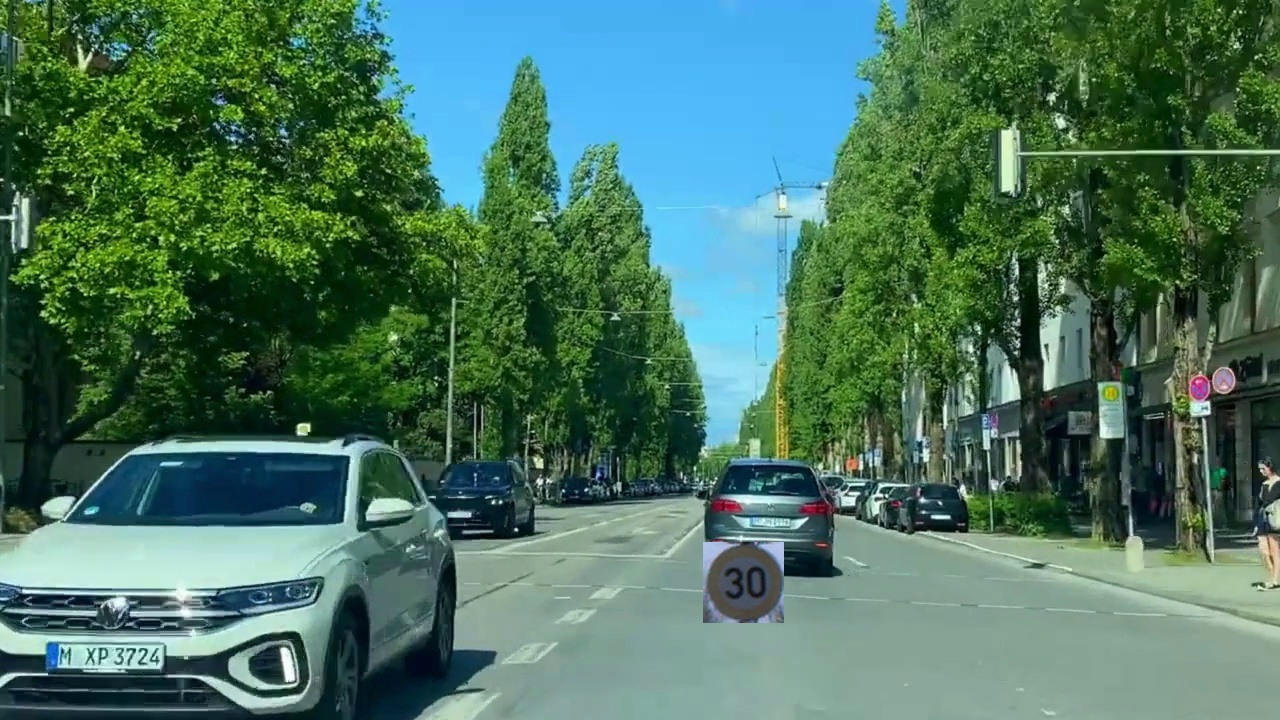Speed 30: (703, 542, 784, 623)
